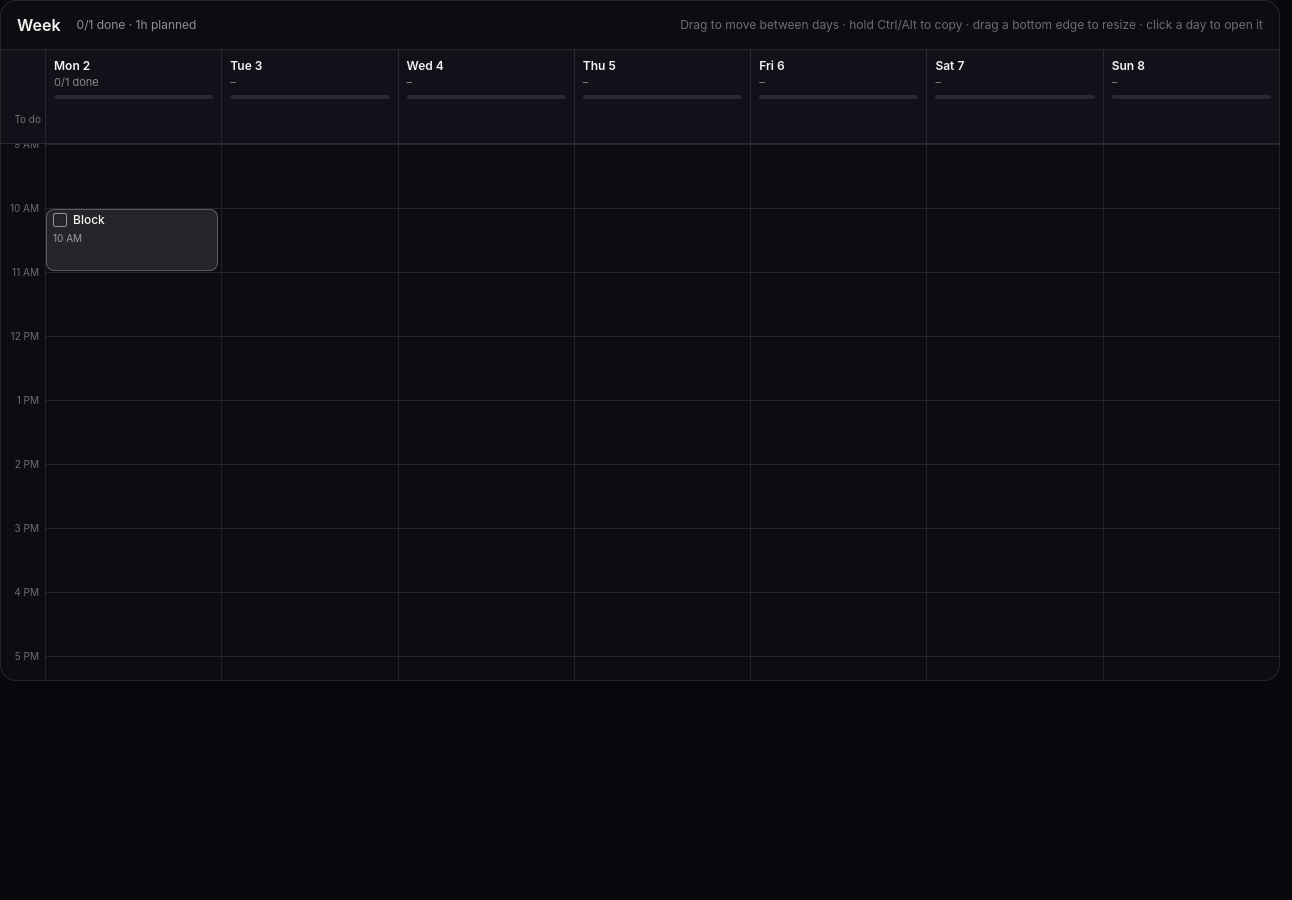
Test: WeekView › toggles a block done
(page scrolled)
Click the button named "Mark as complete" at (60,220), box [53,212,67,226]
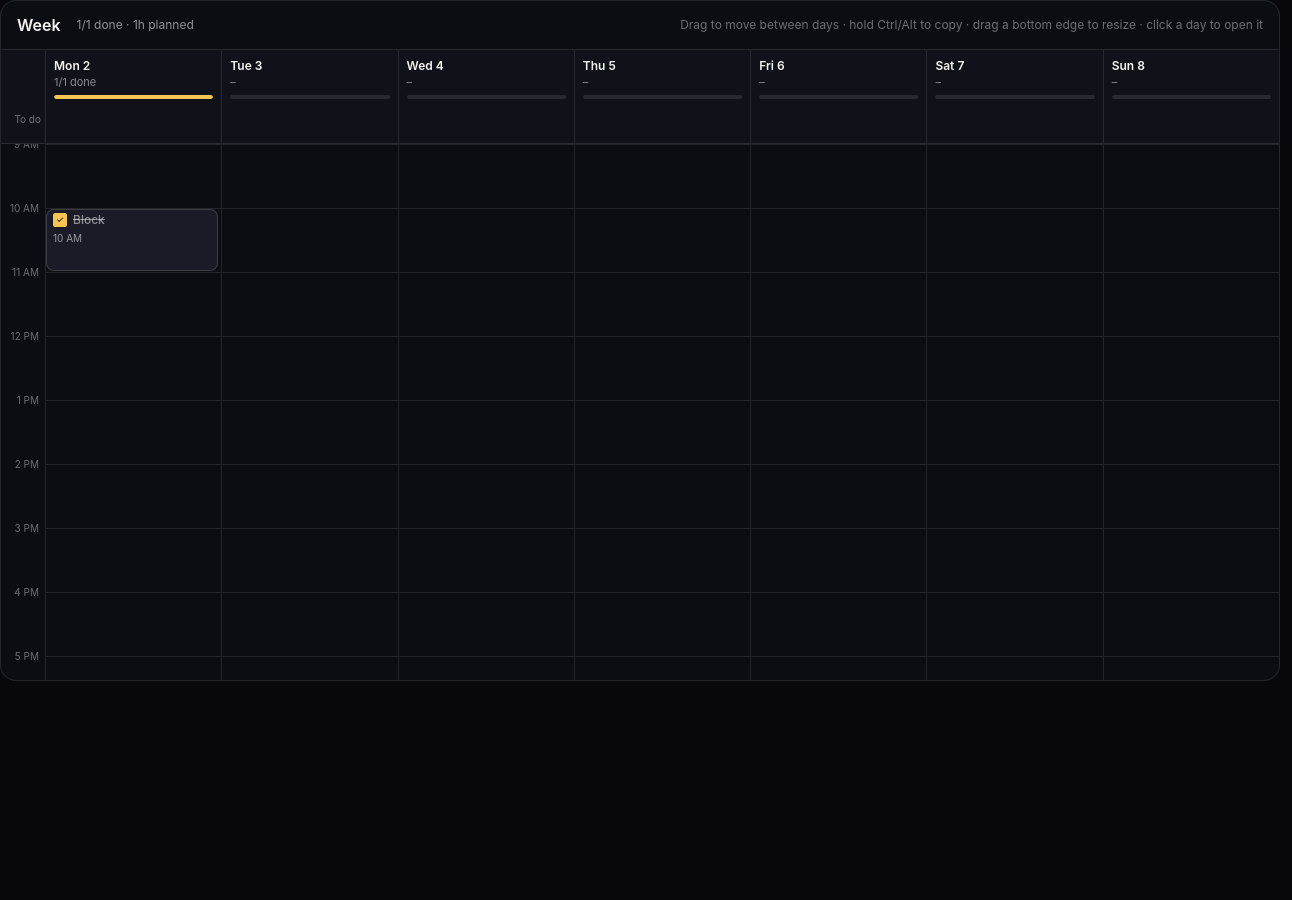
Now the text "1/1 done · 1h planned" is shown, box [76,17,194,33]
